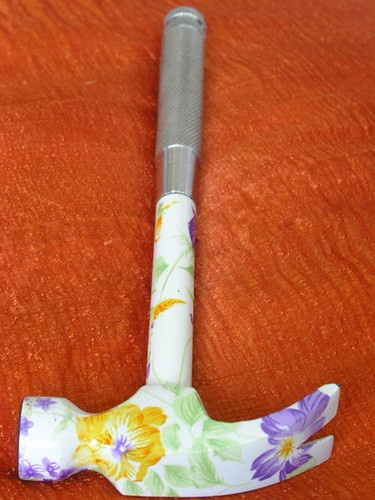hammer: (20, 10, 337, 493)
